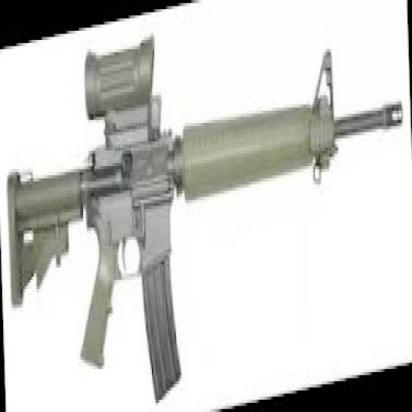Gun: (3, 0, 412, 412)
